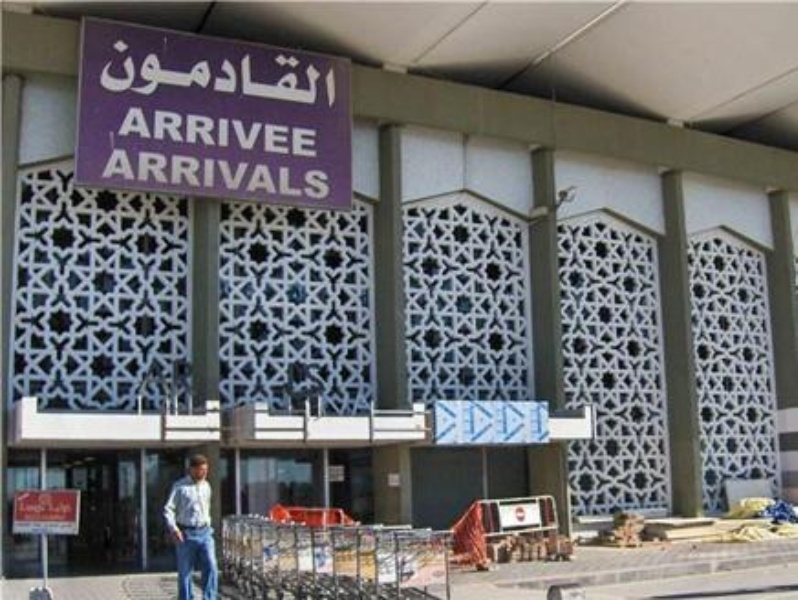text: (113, 35, 128, 112), (129, 35, 144, 112), (145, 35, 160, 112), (161, 35, 176, 112), (177, 35, 192, 112), (193, 35, 208, 112), (209, 35, 224, 112), (225, 35, 240, 112), (241, 35, 256, 112), (257, 35, 272, 112), (273, 35, 288, 112), (289, 35, 304, 112), (305, 35, 320, 112), (321, 35, 336, 112), (129, 105, 144, 161), (145, 105, 160, 161), (161, 105, 176, 161), (177, 105, 192, 161), (193, 105, 208, 161), (209, 105, 224, 161), (225, 105, 240, 161), (241, 105, 256, 161), (257, 105, 272, 161), (273, 105, 288, 161), (289, 105, 304, 161), (305, 105, 320, 161), (113, 147, 128, 202), (129, 147, 144, 202), (145, 147, 160, 202), (161, 147, 176, 202), (177, 147, 192, 202), (193, 147, 208, 202), (209, 147, 224, 202), (225, 147, 240, 202), (241, 147, 256, 202), (257, 147, 272, 202), (273, 147, 288, 202), (289, 147, 304, 202), (305, 147, 320, 202), (321, 147, 335, 202), (103, 35, 112, 112), (337, 35, 345, 112), (125, 105, 128, 161), (321, 105, 323, 161)
